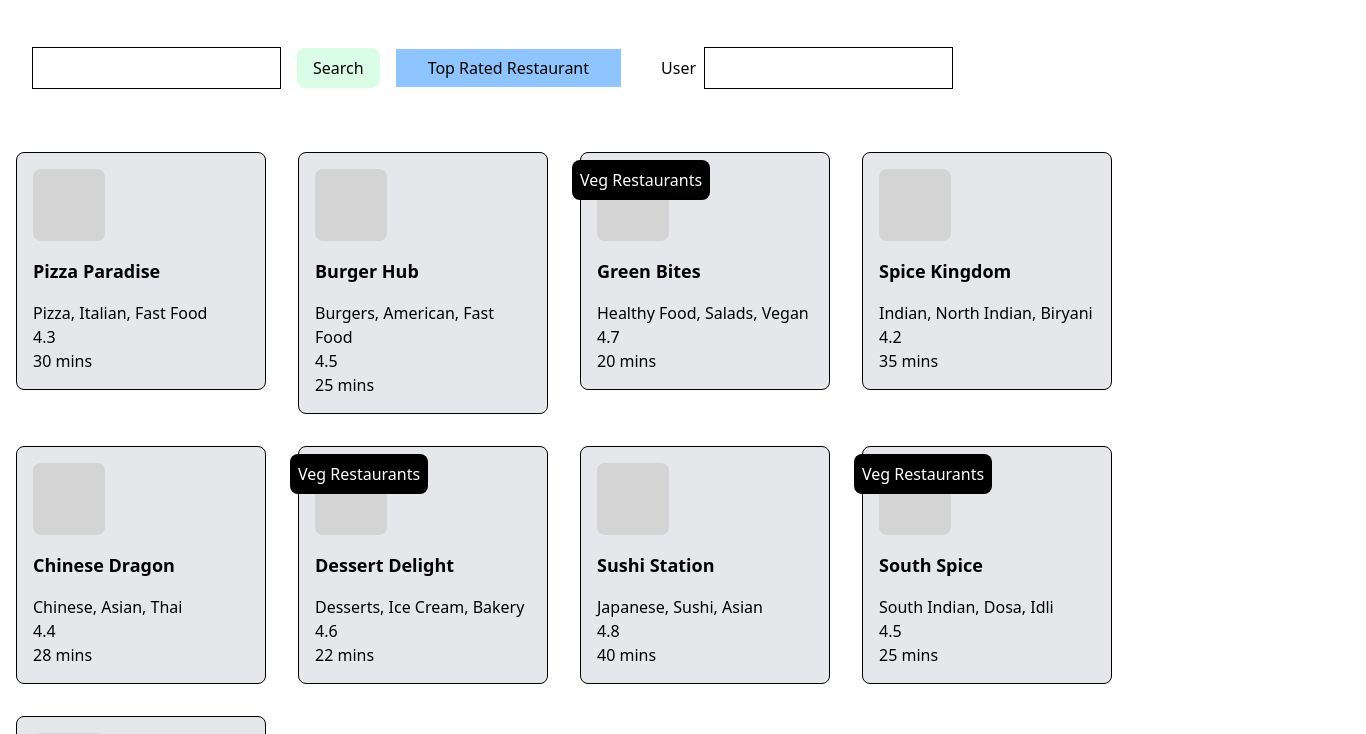
Scenario: should filter top rated Restruants
Click the button "Top Rated Restaurant". click: (508, 68)
box: [412,48,605,88]
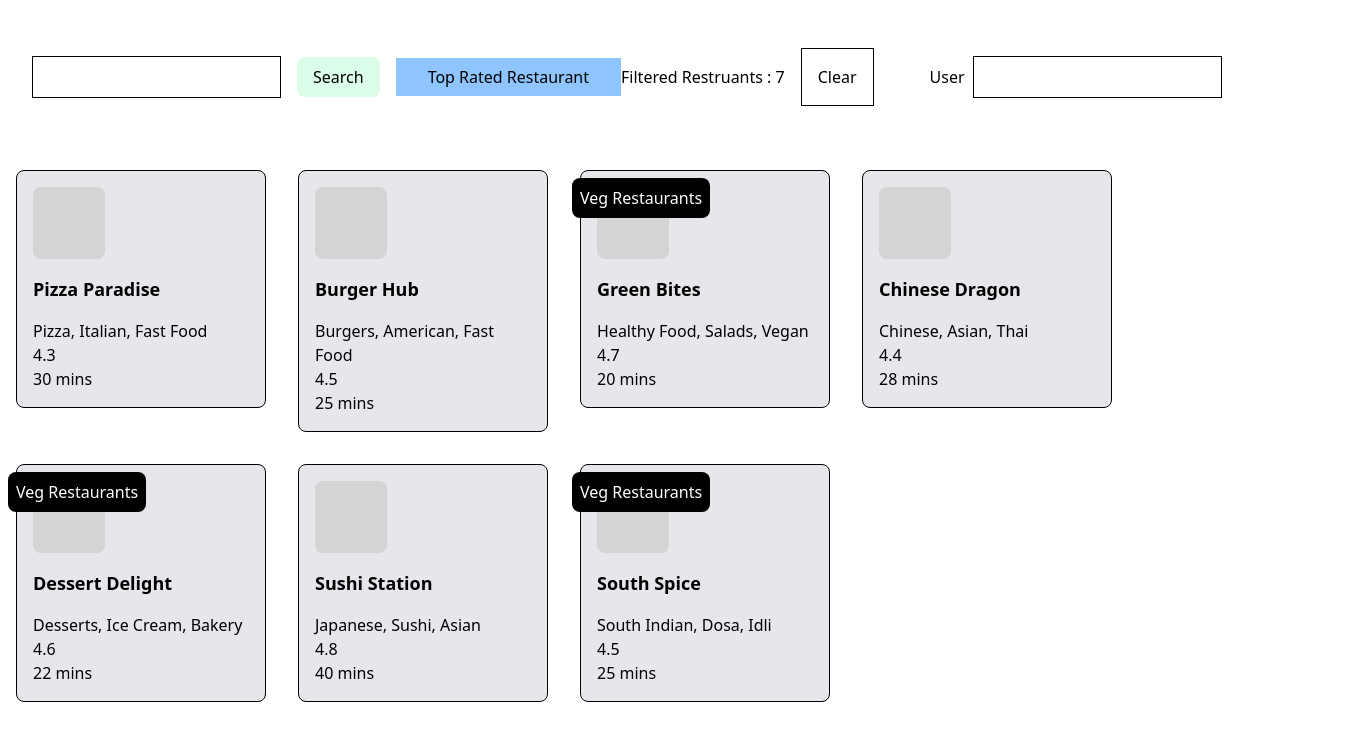
Now the number of elements with test id "resCard" is 7
